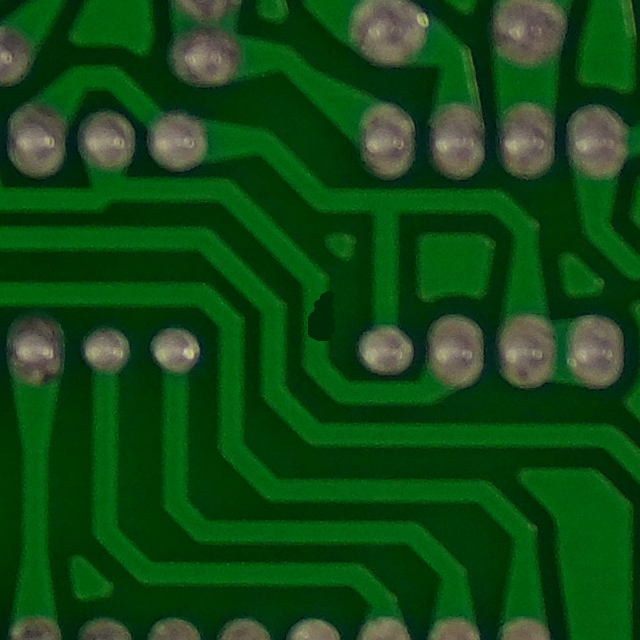mouse_bite: (286, 282, 355, 359)
